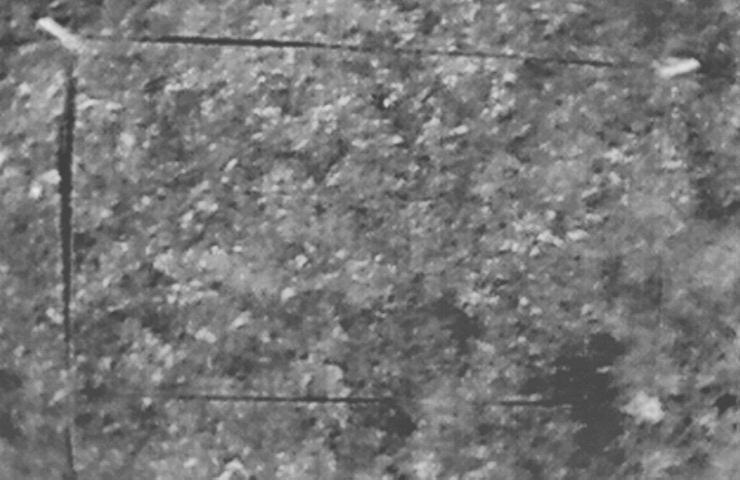landmines: (349, 260, 377, 286)
